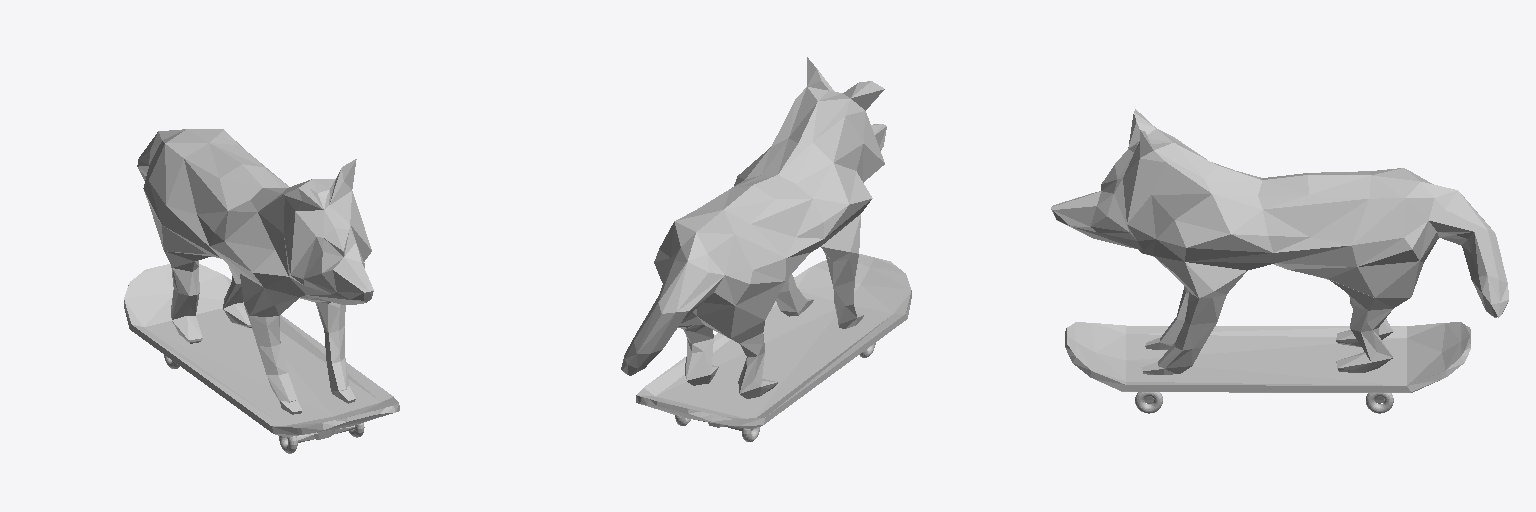
File: Fuchs10.obj
3 views of the same model, side by side, from view 1: azimuth 30°, elevation 25°; view 2: azimuth 150°, elevation 25°; view 3: azimuth 270°, elevation 25° (orthographic).
Size of the model in its own units: 3.58 by 7.89 by 11.65.